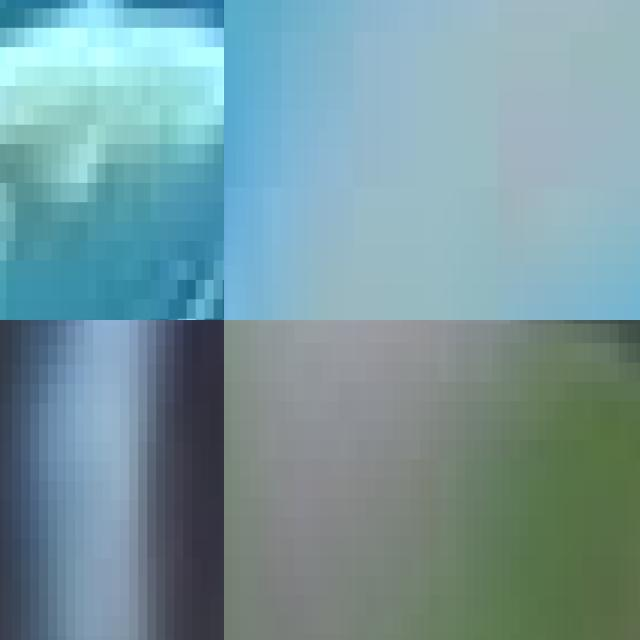fish: (0, 0, 224, 320), (0, 320, 224, 640)
